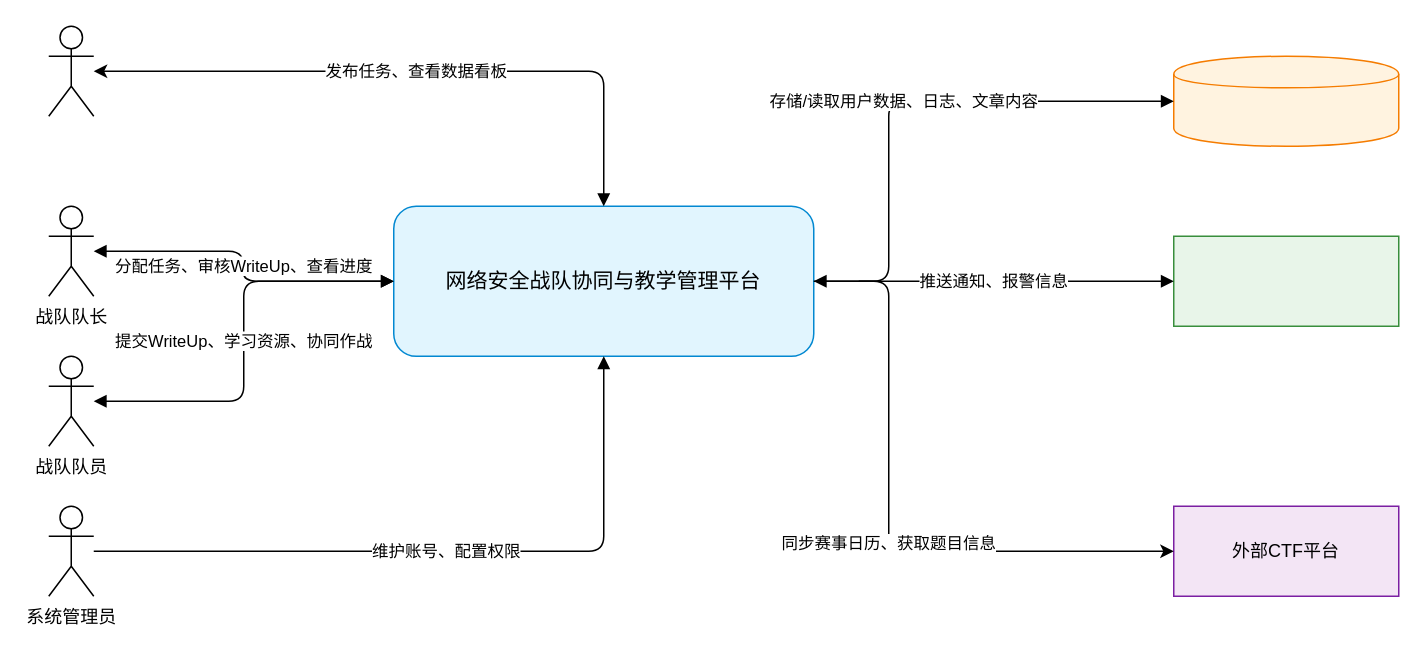
Image size: 1425x654. Some labels were removed from this diagram. The box of each missing label's shape, as (x1, y1, x2, y2) in pixels:
即时通讯工具\n(QQ/微信): (1172, 235, 1399, 326)
指导老师: (47, 25, 94, 116)
数据库: (1172, 55, 1399, 146)
